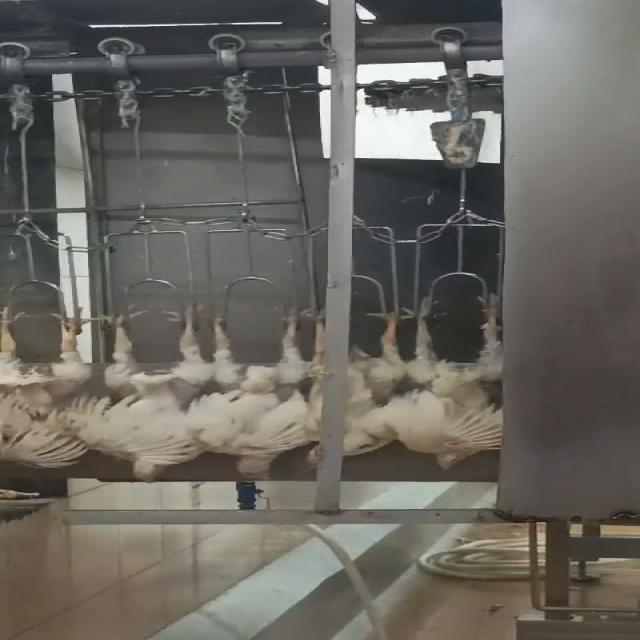chicken: (400, 288, 520, 476), (194, 309, 320, 481), (98, 300, 208, 488), (0, 304, 107, 472), (332, 301, 408, 461)
